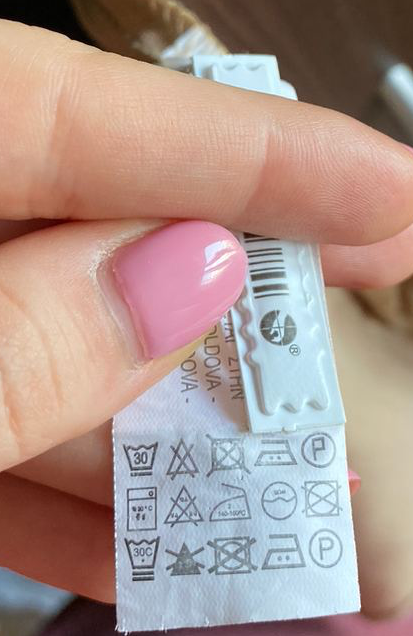do_not_bleach: (164, 433, 199, 481), (163, 540, 205, 579)
do_not_tumble_drying: (206, 532, 259, 579), (203, 431, 253, 479), (300, 478, 344, 520)
dry_clean_tetrachloroethylene_pce_only: (306, 525, 344, 570), (298, 429, 338, 469)
ironing_at_med_temp: (259, 531, 307, 572), (252, 435, 300, 470)
wash_at_or_below_30_mild_fine_wash: (123, 531, 162, 576), (123, 439, 160, 481)
